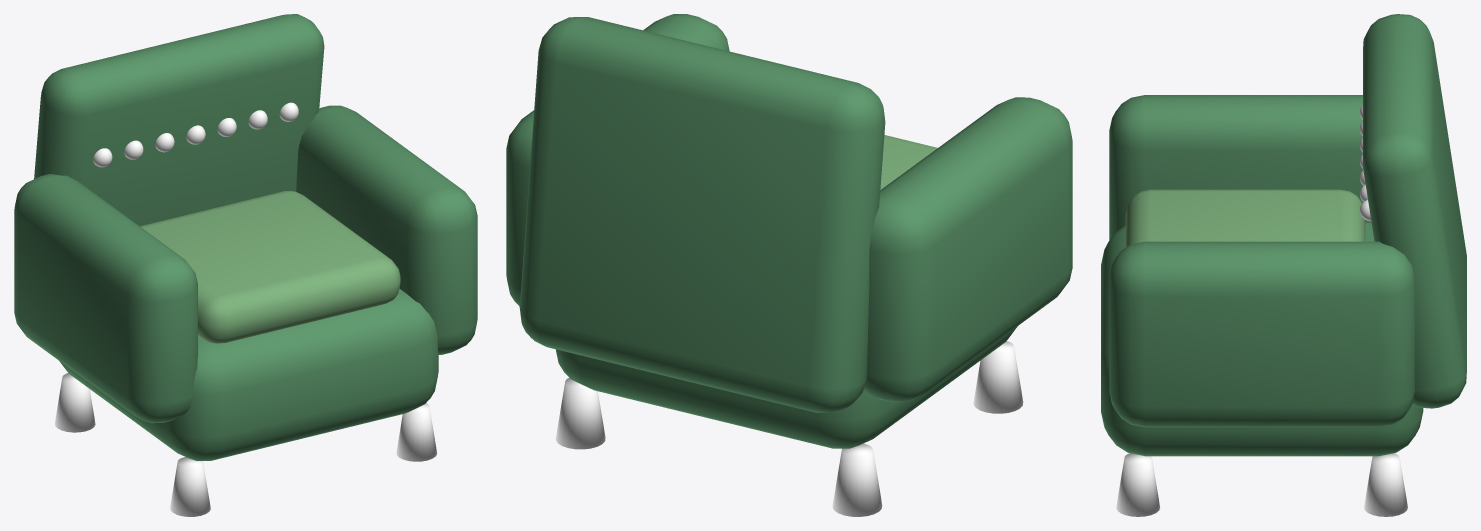
Rendered from sc_armchair.glb.
3 renders of one model, left to right at view 1: azimuth 30°, elevation 25°; view 2: azimuth 150°, elevation 25°; view 3: azimuth 270°, elevation 25°, orthographic. The views are drawn at different scales.
Visible parts, largest first — view 1: Chair_Back, Chair_ArmR, Chair_Seat, Chair_Cushion, Chair_ArmL, Chair_Foot_11, Chair_Foot_-11, Chair_Foot_1-1; view 2: Chair_Back, Chair_ArmR, Chair_Seat, Chair_ArmL, Chair_Foot_1-1, Chair_Foot_-1-1, Chair_Foot_11, Chair_Cushion; view 3: Chair_ArmL, Chair_Back, Chair_ArmR, Chair_Cushion, Chair_Seat, Chair_Foot_-1-1, Chair_Foot_-11.
Boxes of the visible parts, left/top/right/bottom form: Chair_Back: left=34, top=14, right=324, bottom=226; Chair_ArmR: left=14, top=174, right=197, bottom=423; Chair_Seat: left=59, top=288, right=438, bottom=460; Chair_Cushion: left=140, top=191, right=400, bottom=343; Chair_ArmL: left=296, top=105, right=477, bottom=354; Chair_Foot_11: left=170, top=457, right=210, bottom=516; Chair_Foot_-11: left=396, top=403, right=436, bottom=461; Chair_Foot_1-1: left=54, top=373, right=95, bottom=432; Chair_Back: left=519, top=17, right=885, bottom=412; Chair_ArmR: left=863, top=97, right=1072, bottom=402; Chair_Seat: left=555, top=326, right=1017, bottom=448; Chair_ArmL: left=506, top=14, right=729, bottom=306; Chair_Foot_1-1: left=832, top=443, right=882, bottom=516; Chair_Foot_-1-1: left=555, top=377, right=605, bottom=449; Chair_Foot_11: left=973, top=341, right=1023, bottom=413; Chair_Cushion: left=880, top=135, right=937, bottom=189; Chair_ArmL: left=1109, top=241, right=1414, bottom=427; Chair_Back: left=1363, top=14, right=1466, bottom=408; Chair_ArmR: left=1109, top=95, right=1371, bottom=240; Chair_Cushion: left=1125, top=189, right=1365, bottom=247; Chair_Seat: left=1101, top=222, right=1423, bottom=456; Chair_Foot_-1-1: left=1364, top=453, right=1407, bottom=516; Chair_Foot_-11: left=1116, top=453, right=1160, bottom=516.
Size of the model in its own units: 0.156 by 0.1496 by 0.1329.
